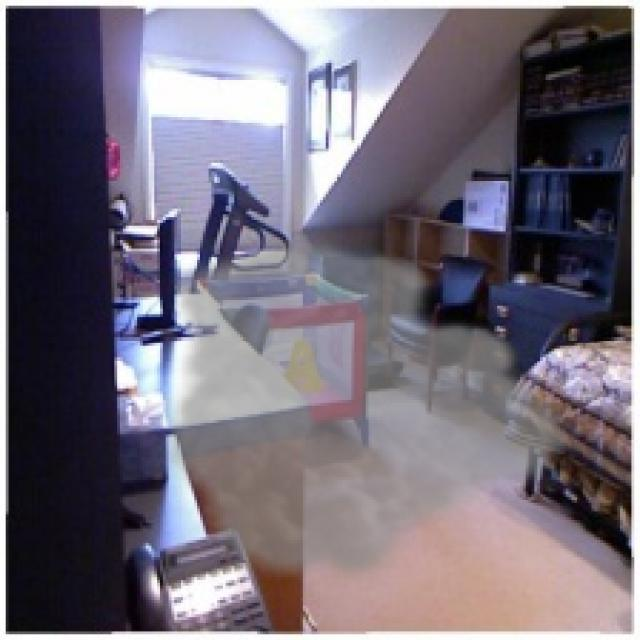Smoke: (160, 234, 580, 589)
